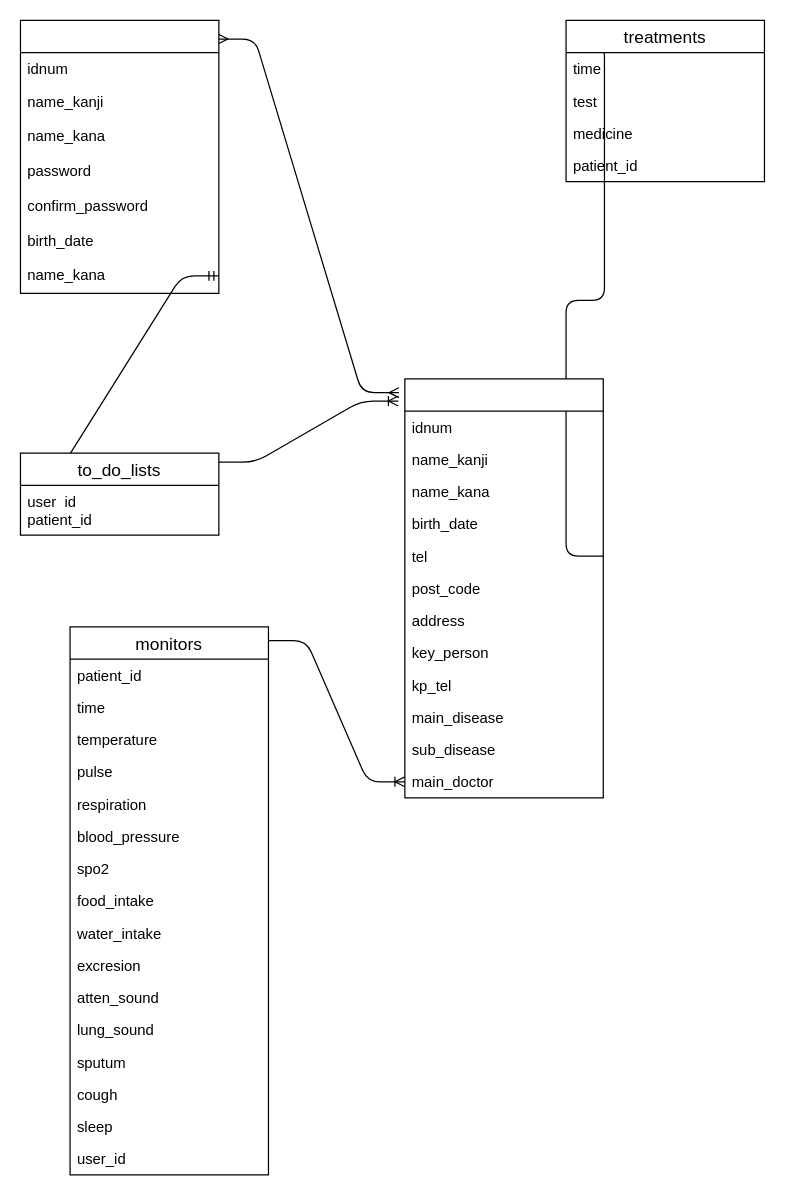
This 785x1195 diagram has some shape labels left out. The box of each missing label's shape, as (x1, y1, x2, y2) in pixels:
patients: (404, 378, 603, 798)
users: (19, 19, 219, 293)
